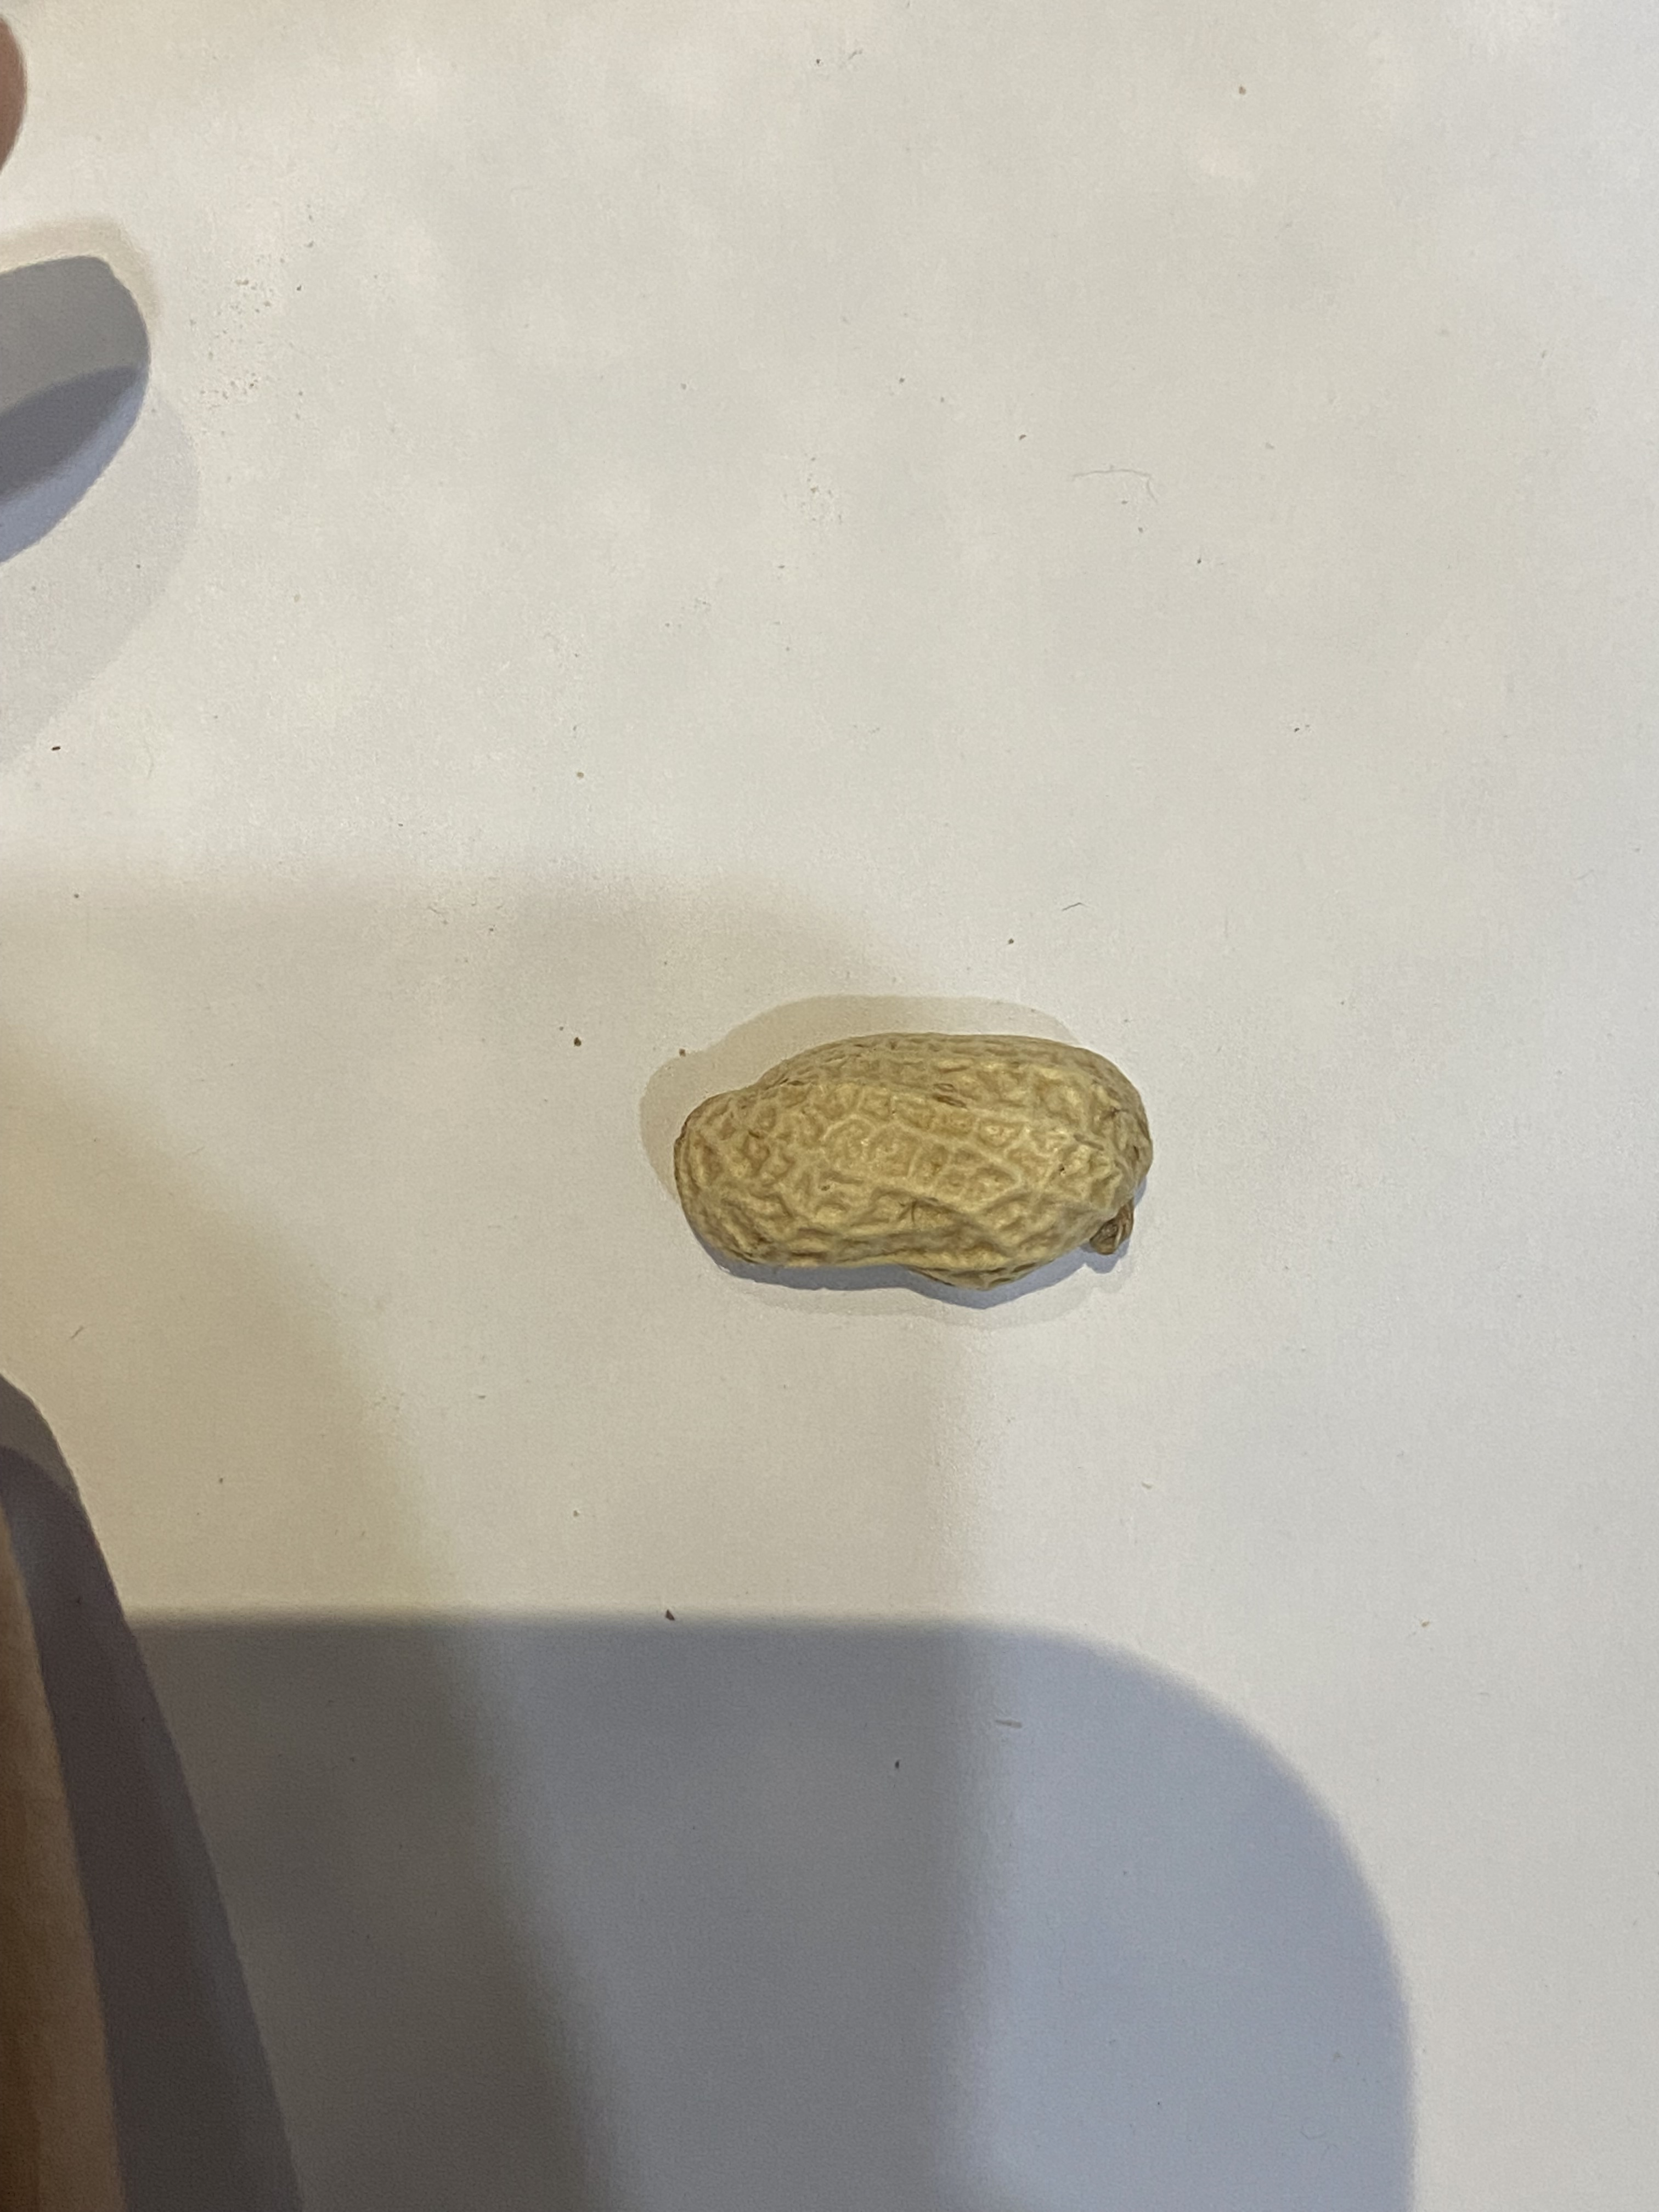kacang1: (657, 1031, 1185, 1292)
